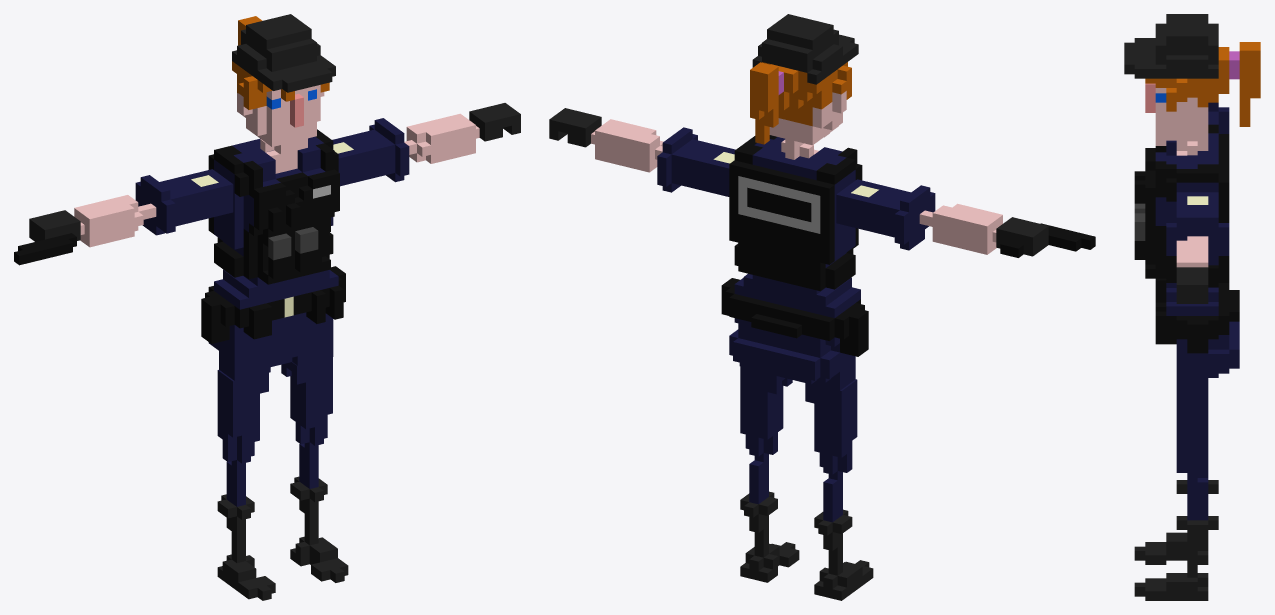
The model's file is police_girl.fbx.
3 views of the same model, side by side, from view 1: azimuth 30°, elevation 25°; view 2: azimuth 150°, elevation 25°; view 3: azimuth 270°, elevation 25° (orthographic).
Parts seen in each view (by area): view 1: police_girl split up.005, police_girl split up.004, police_girl split up.002, police_girl split up.003, police_girl split up, police_girl split up.001; view 2: police_girl split up.005, police_girl split up.004, police_girl split up.002, police_girl split up.003, police_girl split up, police_girl split up.001; view 3: police_girl split up.005, police_girl split up.004, police_girl split up.001, police_girl split up.003, police_girl split up, police_girl split up.002.
Boxes of the visible parts, x1=… form: police_girl split up.005: x1=201, y1=129, x2=345, y2=380; police_girl split up.004: x1=232, y1=14, x2=335, y2=154; police_girl split up.002: x1=14, y1=169, x2=233, y2=265; police_girl split up.003: x1=332, y1=103, x2=520, y2=186; police_girl split up: x1=217, y1=370, x2=275, y2=600; police_girl split up.001: x1=281, y1=357, x2=348, y2=582; police_girl split up.005: x1=721, y1=135, x2=868, y2=390; police_girl split up.004: x1=750, y1=14, x2=858, y2=159; police_girl split up.002: x1=836, y1=179, x2=1095, y2=257; police_girl split up.003: x1=549, y1=108, x2=735, y2=196; police_girl split up: x1=805, y1=379, x2=873, y2=600; police_girl split up.001: x1=740, y1=366, x2=799, y2=582; police_girl split up.005: x1=1134, y1=124, x2=1239, y2=391; police_girl split up.004: x1=1124, y1=14, x2=1260, y2=155; police_girl split up.001: x1=1134, y1=392, x2=1218, y2=600; police_girl split up.003: x1=1166, y1=192, x2=1229, y2=303; police_girl split up: x1=1134, y1=473, x2=1218, y2=564; police_girl split up.002: x1=1208, y1=102, x2=1229, y2=133.
Size of the model in its own units: 5706 by 5802 by 1300.
